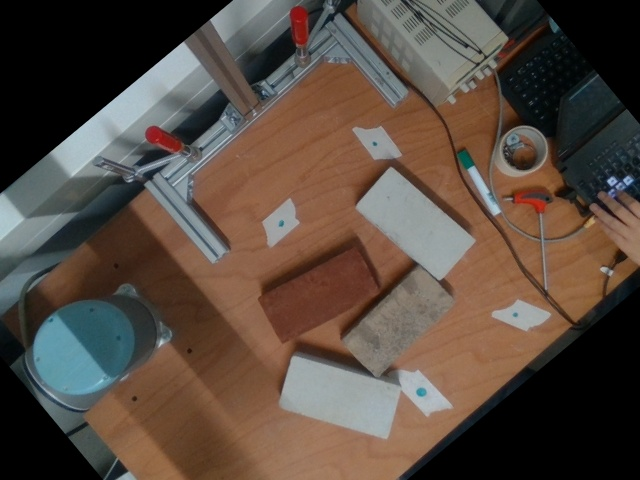brick: (342, 263, 456, 378), (357, 167, 474, 279), (258, 246, 380, 344), (280, 357, 400, 439)
